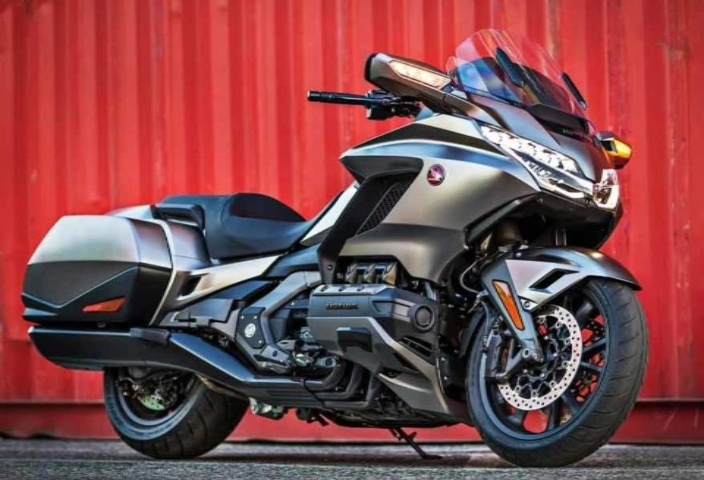motorcycle: (44, 21, 671, 480)
